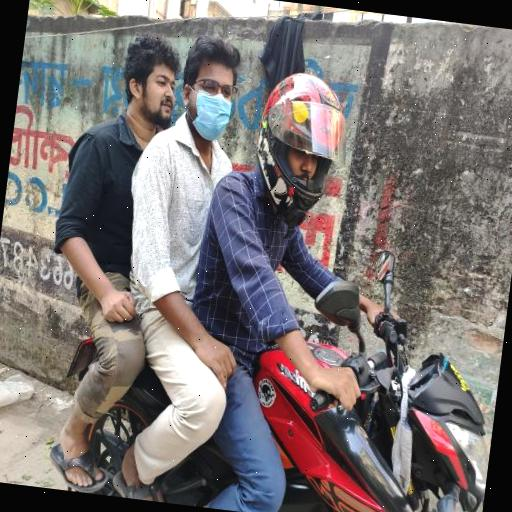helmet: (230, 54, 376, 296)
triple riding: (12, 11, 512, 512)
